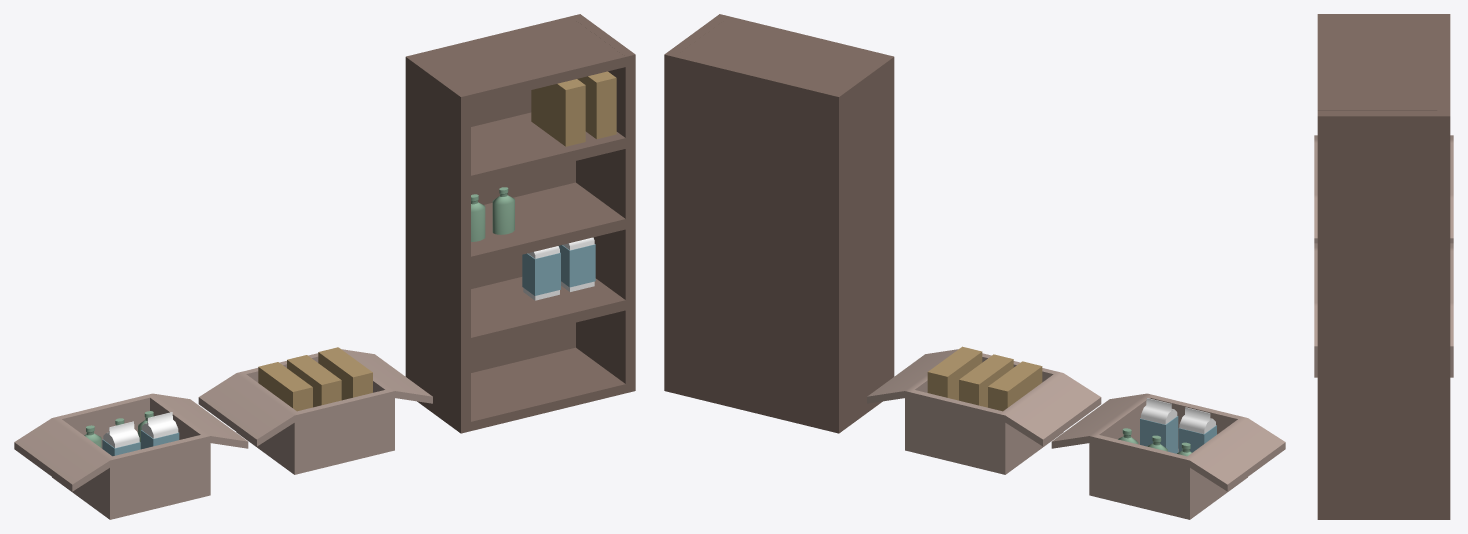
File: Grocery_Store_Models.fbx
3 views of the same model, side by side, from view 1: azimuth 30°, elevation 25°; view 2: azimuth 150°, elevation 25°; view 3: azimuth 270°, elevation 25° (orthographic). The views are drawn at different scales.
Parts seen in each view (by area): view 1: Shelf1, Box2, Box1, Cereal2, Cereal1, Cereal3, Cereal5, Cereal4, MilkCover2, MilkCover1, Detergent4; view 2: Shelf1, Box2, Box1, Cereal3, Cereal5, Cereal4, MilkCover3; view 3: Shelf1, Box1, Box2.
Boxes of the visible parts, x1,y1,x2,y2 form: Shelf1: (405,14,635,433); Box2: (14,393,248,519); Box1: (198,349,432,474); Cereal2: (531,79,585,146); Cereal1: (577,71,616,139); Cereal3: (318,347,372,400); Cereal5: (258,362,312,411); Cereal4: (287,355,341,407); MilkCover2: (522,252,560,295); MilkCover1: (558,244,595,287); Detergent4: (492,187,514,234); Shelf1: (664,14,894,433); Box2: (1051,393,1285,519); Box1: (867,349,1101,474); Cereal3: (927,346,982,400); Cereal5: (988,361,1042,411); Cereal4: (959,354,1013,407); MilkCover3: (1140,416,1178,453); Shelf1: (1317,14,1450,519); Box1: (1314,243,1453,377); Box2: (1314,135,1453,243).
Size of the model in its own units: 58.32 by 33.2 by 10.39.
